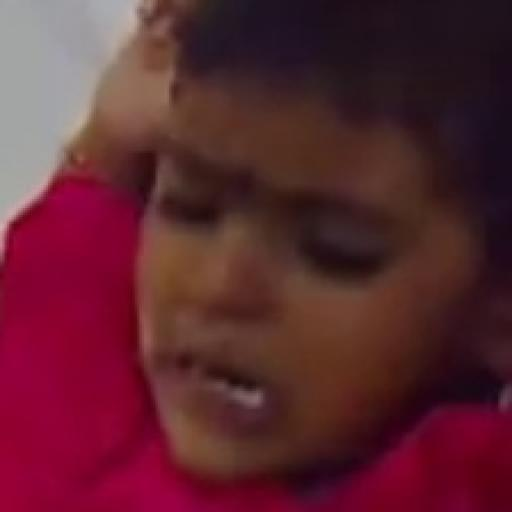Autism: (130, 4, 512, 444)
